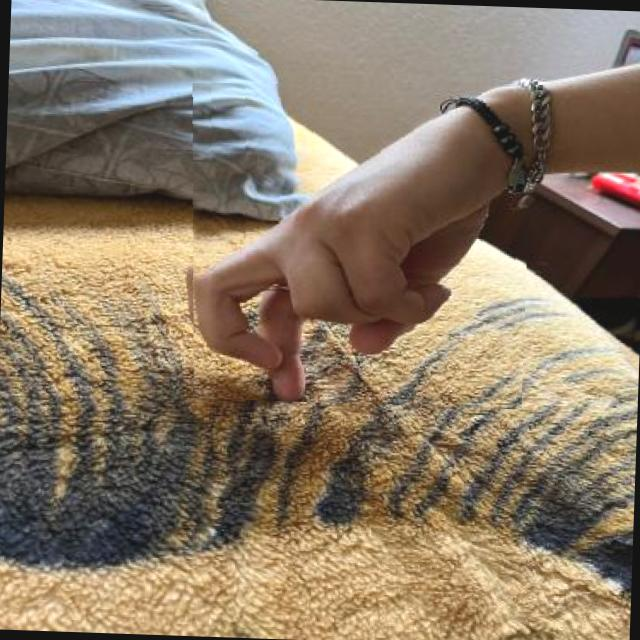P: (182, 72, 532, 409)
